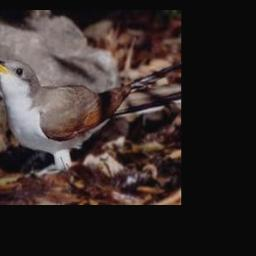Cuckoo: (0, 59, 181, 173)
